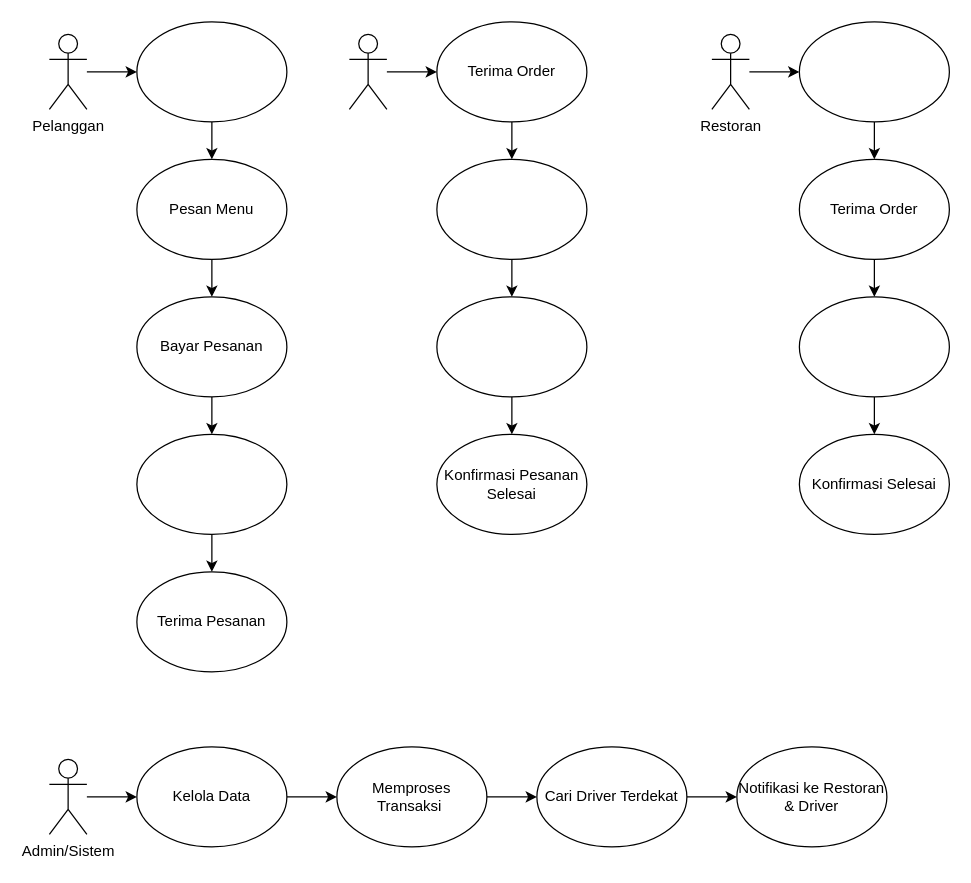
Image size: 971x883. Some labels were removed from this diagram. Here are the shapes that lost their labels. From the top down, the centre of each, then its label:
At point 211,71: "Cari Dan Pilih Makanan".
At point 367,71: "Driver".
At point 873,71: "Kelola Menu".
At point 511,208: "Mengambil Pesanan di Restoran".
At point 511,346: "Mengantar Pesanan ke Pelanggan".
At point 873,346: "Siapkan Pesanan".
At point 211,483: "Lacak Driver".
